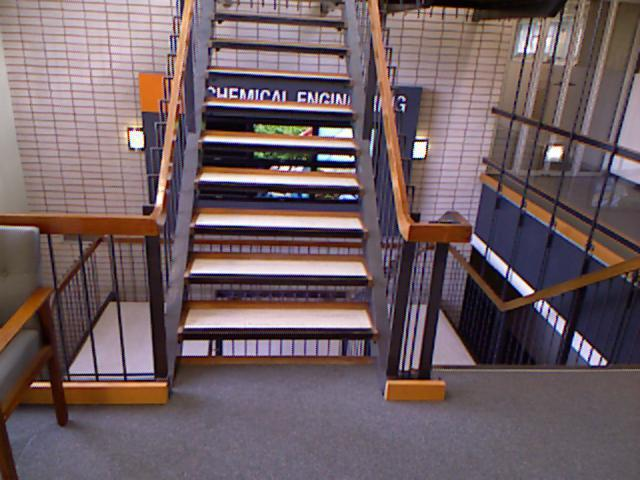Escaleras: (185, 23, 379, 351), (398, 315, 639, 406)
